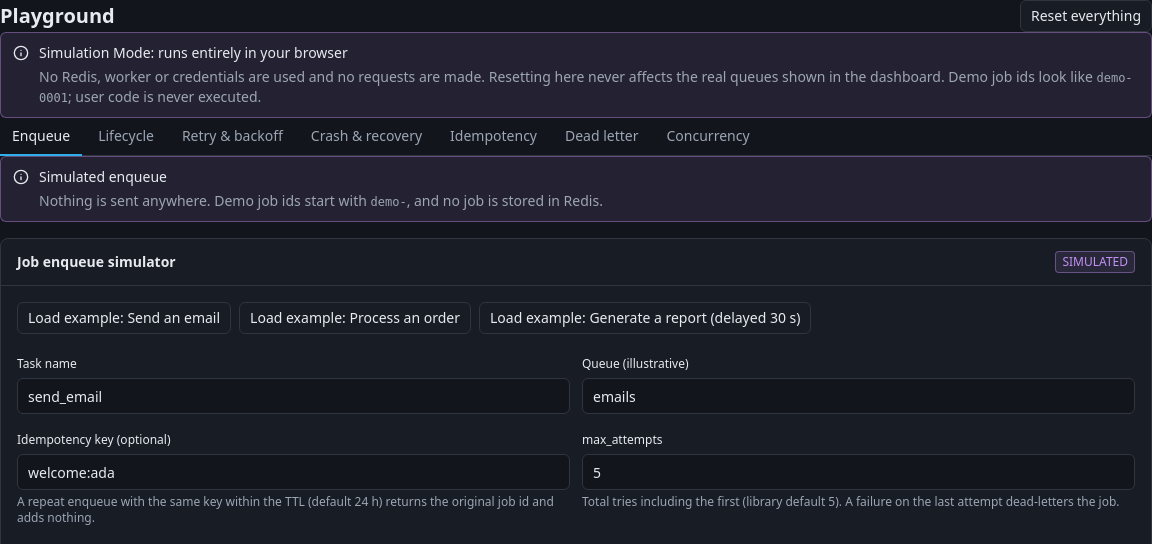
Test case: Playground (Simulation Mode) › backoff lab validates input and labels samples as simulated
Click the tab "Retry & backoff" at (232,137), box [170,118,295,156]
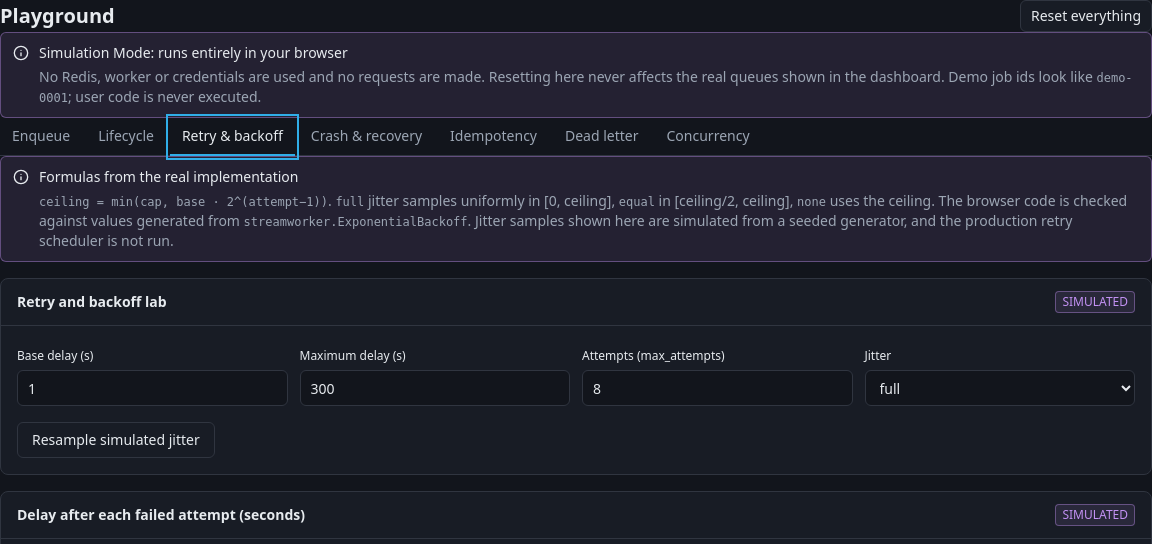
Select "none" in the dropdown labelled "Jitter" at (1000,388), box [864,370,1135,406]
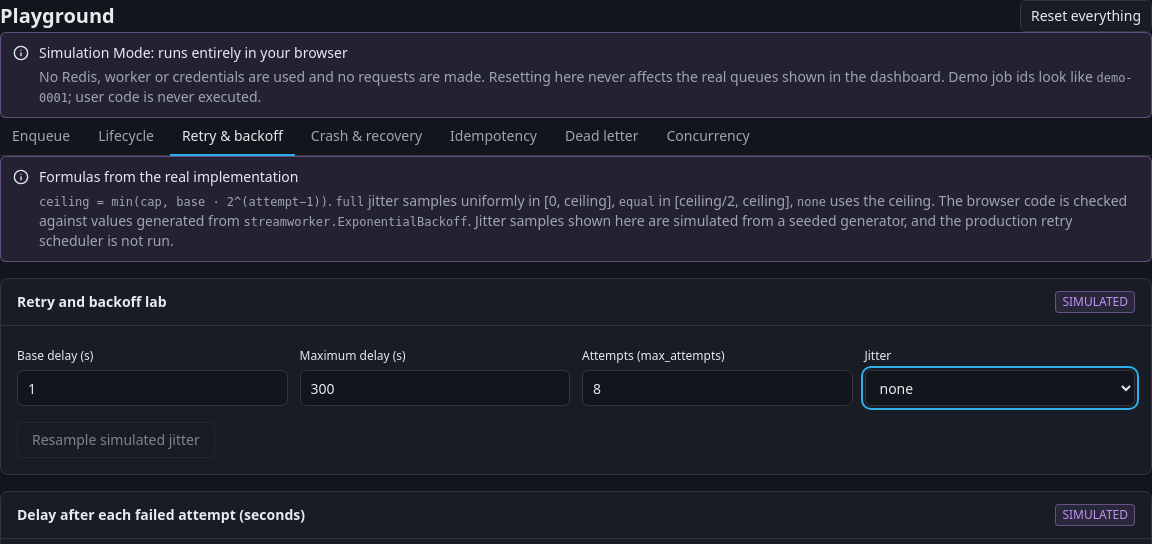
Expected: the text "SIMULATED" in the row of "Retry and backoff lab" is shown, [1062,293,1128,310]
Replace the text in the field labelled "Base delay (s)" with "0" at (152,388), box [17,370,288,406]
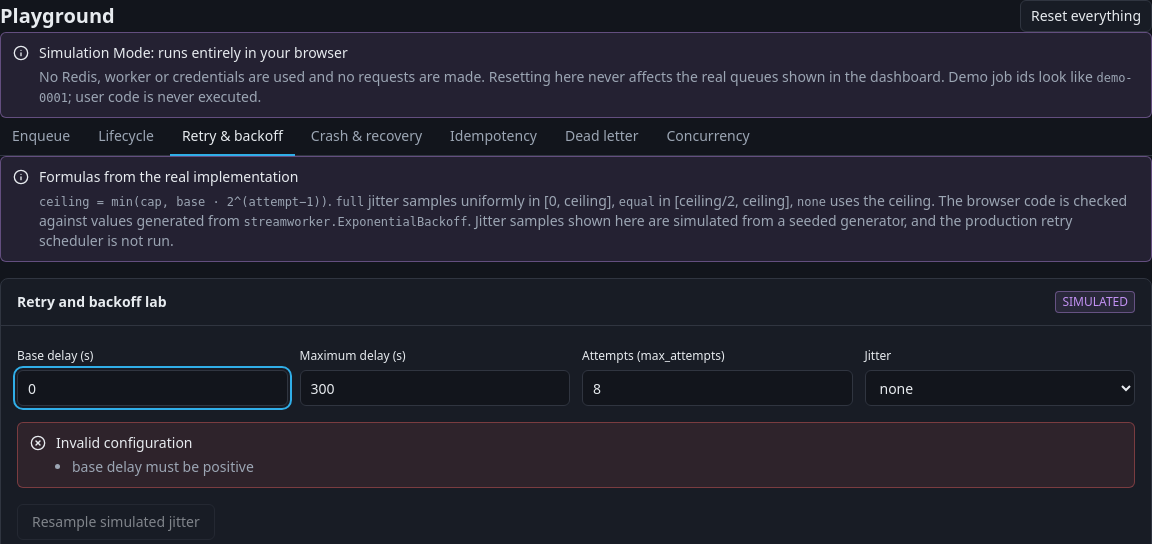
Expected: the message shows "base delay must be positive", [72,457,254,476]
